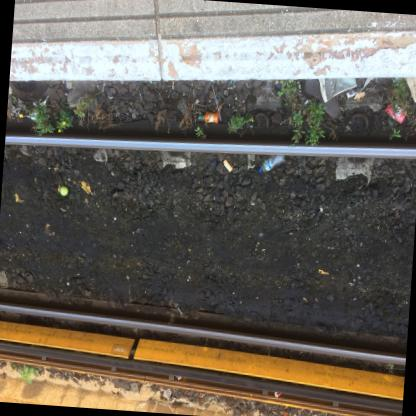Metal: (250, 202, 254, 204)
Paper: (317, 77, 356, 102), (345, 77, 373, 97), (406, 77, 416, 100), (162, 387, 175, 402), (171, 80, 173, 88)
Plastic: (257, 154, 284, 172), (384, 104, 407, 123), (211, 84, 220, 120), (198, 111, 218, 123), (18, 110, 37, 119), (222, 159, 232, 171), (59, 185, 67, 195)
Waste: (299, 78, 338, 118), (274, 391, 281, 397), (175, 375, 181, 379), (132, 196, 135, 201), (213, 97, 217, 100), (229, 79, 231, 84)
